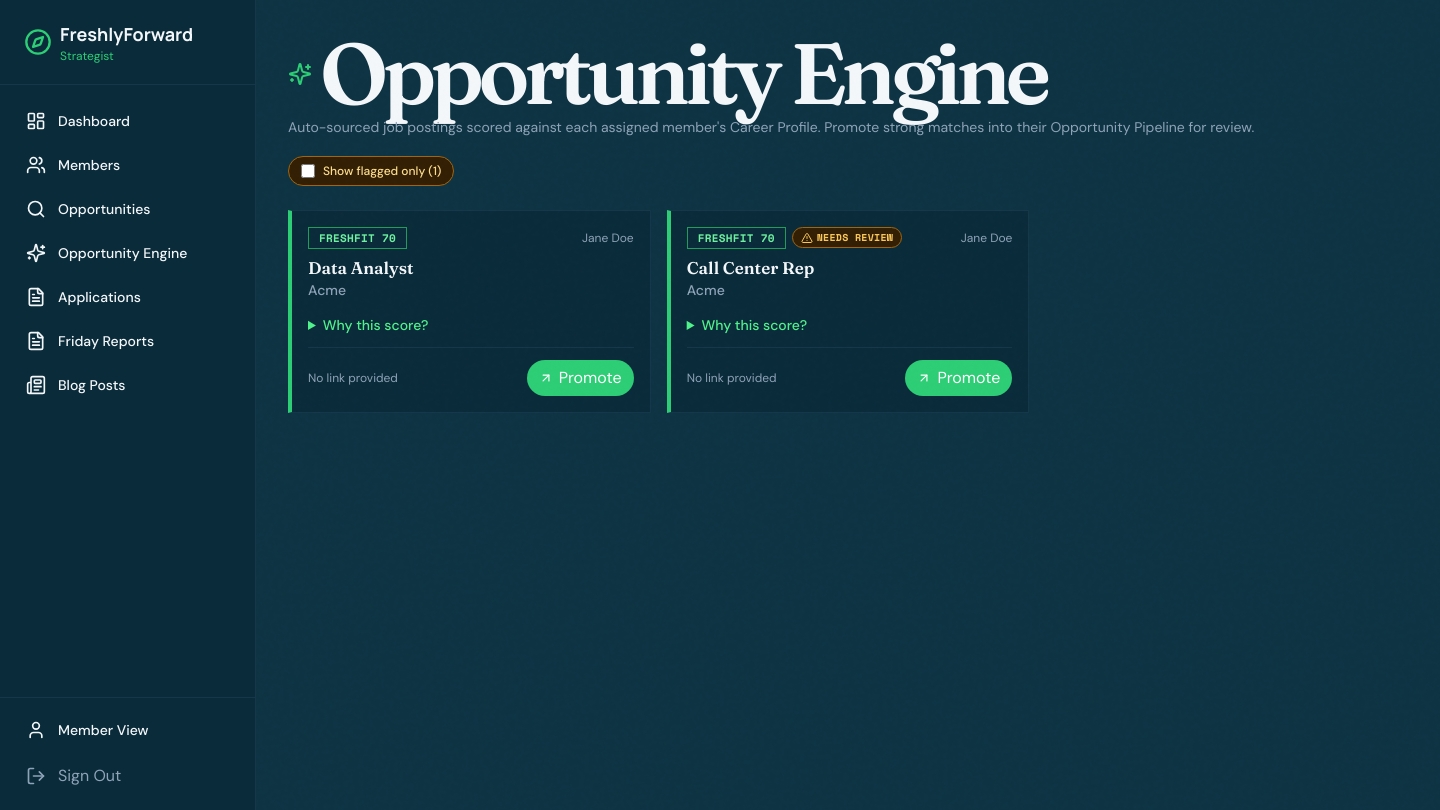
Scenario: StrategistOpportunityEnginePage - OE 2.0 Phase 3 flagged matches › filters the grid down to only flagged matches when the toggle is checked
Expected: the heading "Data Analyst" is shown, [308,257,414,278]
Expected: the heading "Call Center Rep" is shown, [687,257,814,278]
Click the checkbox labelled "Show flagged only (1)" at (308, 171), box [301,164,315,178]
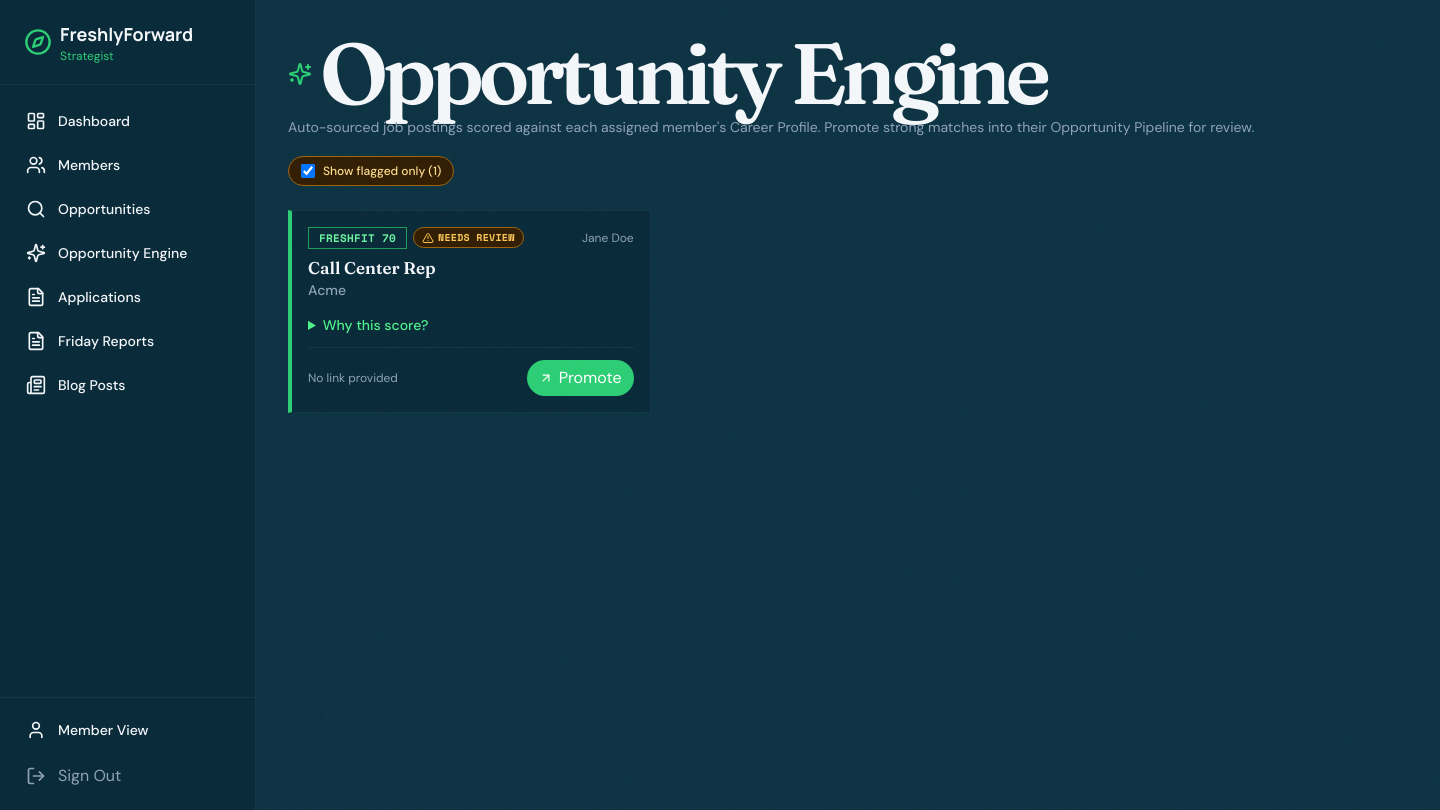
Expected: the heading "Call Center Rep" is shown, [308,257,436,278]
Expected: the heading "Data Analyst" is gone
